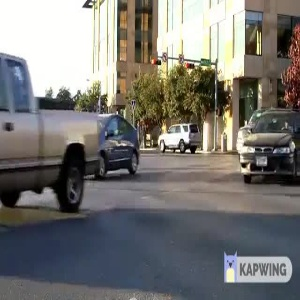car: (228, 109, 300, 189)
suv: (150, 120, 210, 158)
